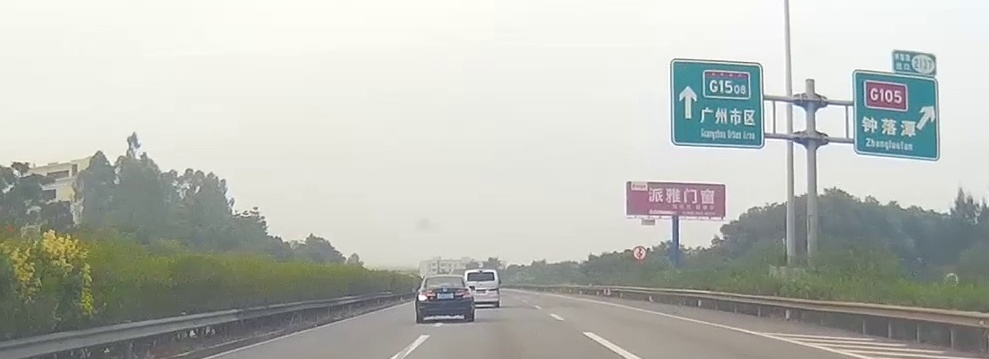L_light: (418, 291, 436, 300)
R_light: (454, 290, 472, 298)
T_light: (439, 276, 450, 278)
day-left: (415, 274, 475, 322)
